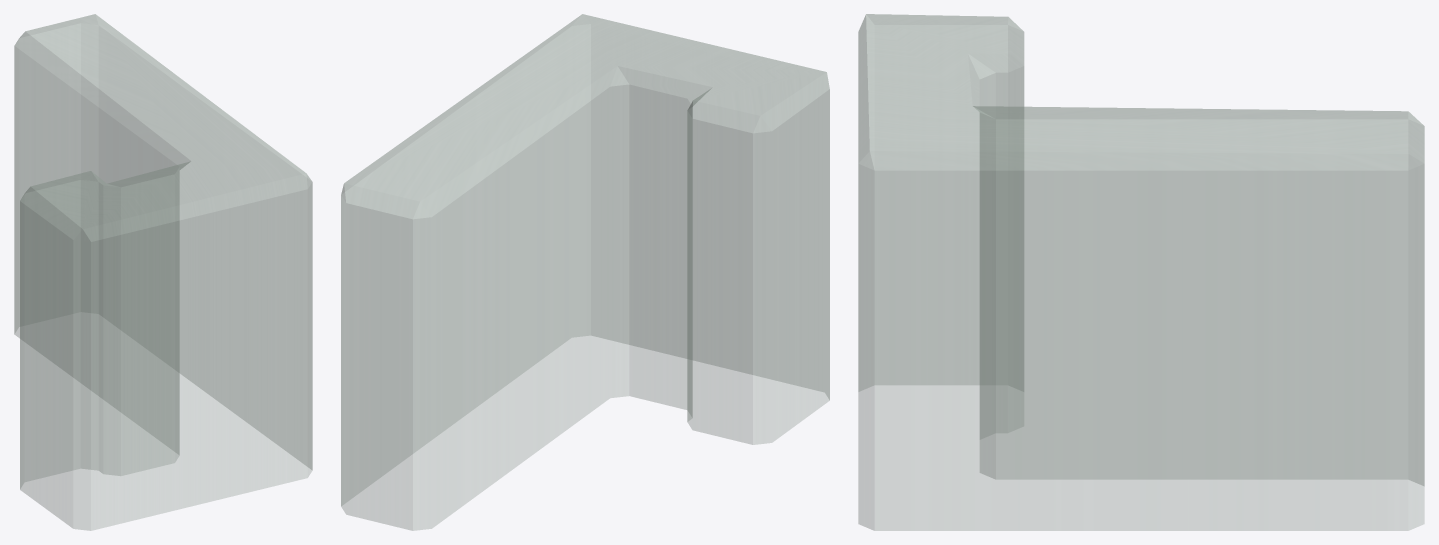
3 renders of one model, left to right at view 1: azimuth 30°, elevation 25°; view 2: azimuth 150°, elevation 25°; view 3: azimuth 270°, elevation 25°, orthographic. The views are drawn at different scales.
Parts seen in each view (by area): view 1: J; view 2: J; view 3: J.
Boxes of the visible parts, x1,y1,x2,y2 form: J: (14,14,312,530); J: (341,14,829,530); J: (858,14,1424,530).
Bounding box in the file's own units: 0.3663 × 0.44 × 0.6019.
1 material, 1 textured.
